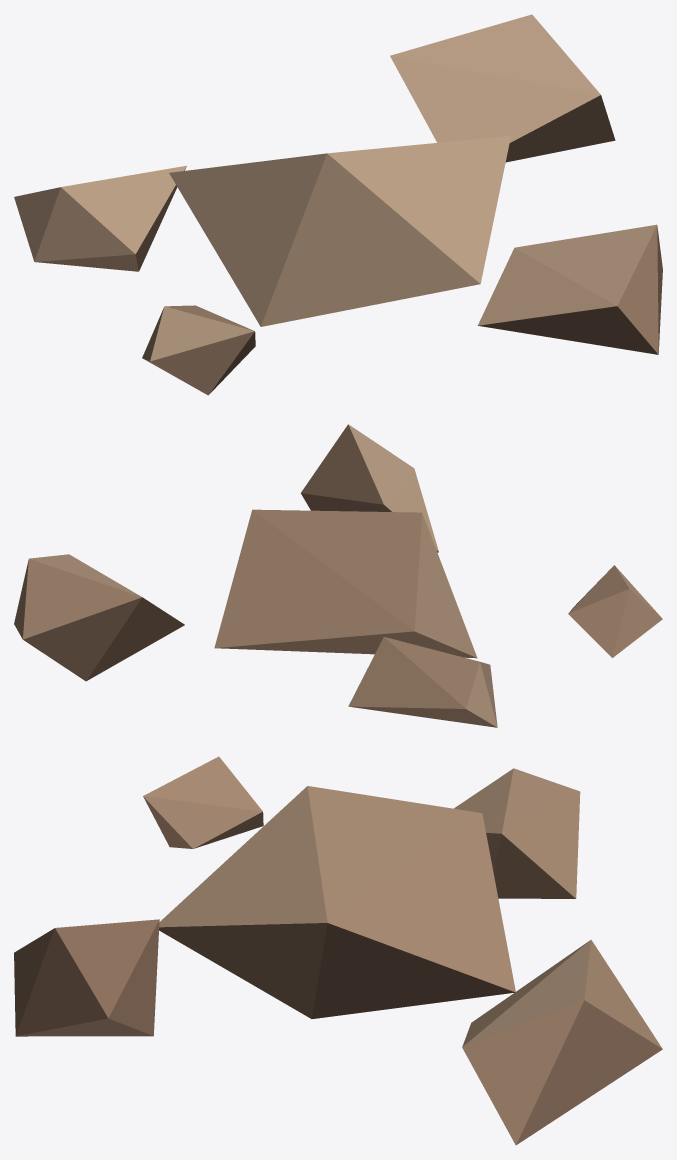
File: prop_desert_pebbles_0.glb
3 renders of one model, top to bottom at view 1: azimuth 30°, elevation 25°; view 2: azimuth 150°, elevation 25°; view 3: azimuth 270°, elevation 25°, orthographic. The views are drawn at different scales.
Visible parts, largest first — view 1: Body; view 2: Body; view 3: Body.
Boxes of the visible parts, bbox=[...] form: Body: bbox=[14, 14, 662, 395]; Body: bbox=[14, 424, 662, 727]; Body: bbox=[14, 756, 662, 1145].
Bounding box in the file's own units: 0.5565 × 0.1352 × 0.4825.
